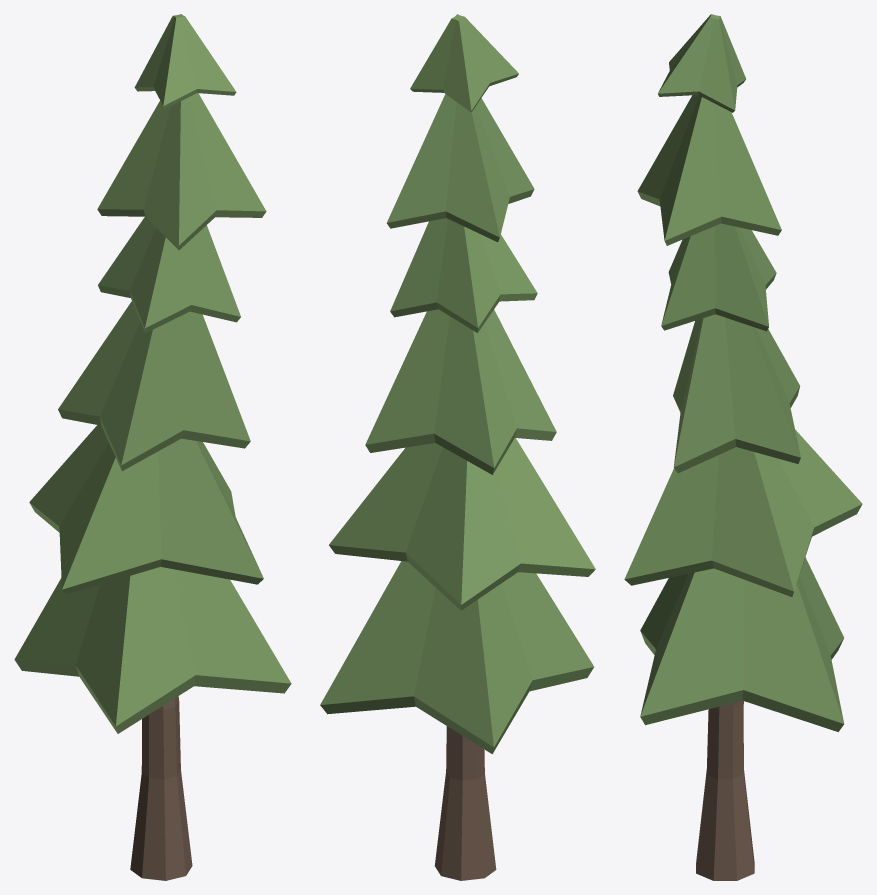
The model's file is Tree_01.fbx.
The picture shows the model from 3 angles, left to right: view 1: azimuth 30°, elevation 25°; view 2: azimuth 150°, elevation 25°; view 3: azimuth 270°, elevation 25°; orthographic projection.
Visible parts, largest first — view 1: Tree_01; view 2: Tree_01; view 3: Tree_01.
Boxes of the visible parts, bbox=[...] form: Tree_01: bbox=[14, 14, 291, 880]; Tree_01: bbox=[320, 14, 595, 880]; Tree_01: bbox=[624, 14, 862, 880].
Bounding box in the file's own units: 222 × 824 × 207.
